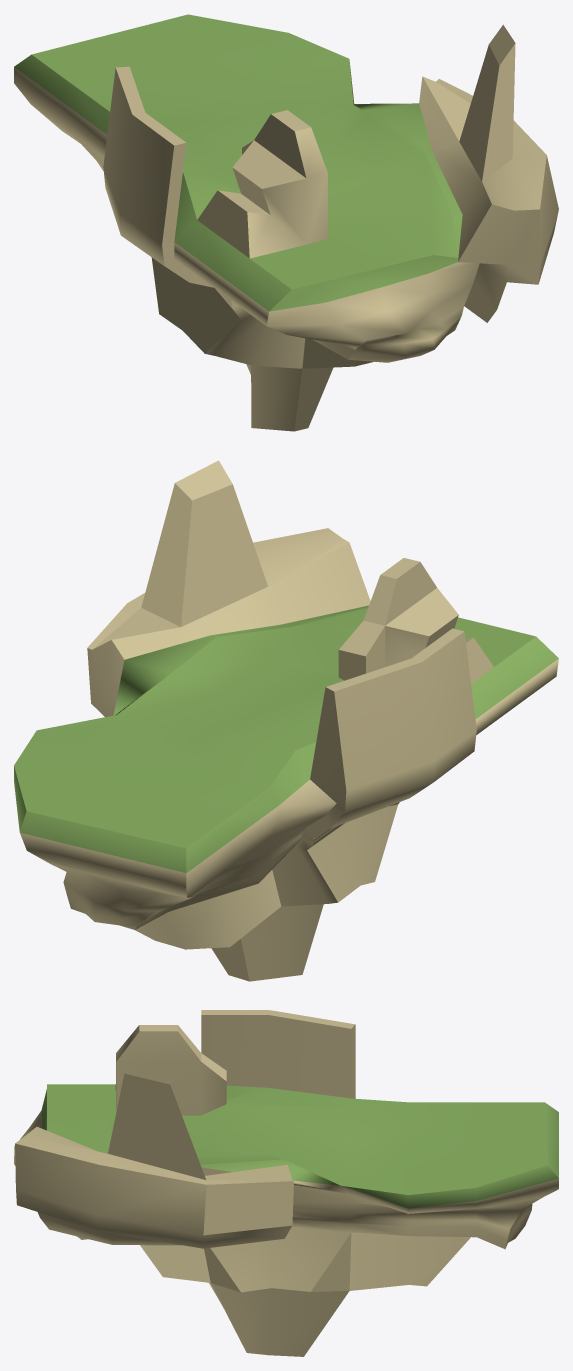
Rendered from Runway_Island.fbx.
The picture shows the model from 3 angles, top to bottom: view 1: azimuth 30°, elevation 25°; view 2: azimuth 150°, elevation 25°; view 3: azimuth 270°, elevation 25°; orthographic projection. The views are drawn at different scales.
Visible parts, largest first — view 1: pCube1; view 2: pCube1; view 3: pCube1.
Boxes of the visible parts, x1=… form: pCube1: x1=14, y1=14, x2=558, y2=431; pCube1: x1=14, y1=460, x2=558, y2=981; pCube1: x1=14, y1=1010, x2=558, y2=1356.
Bounding box in the file's own units: 36.89 × 39.99 × 59.37.
